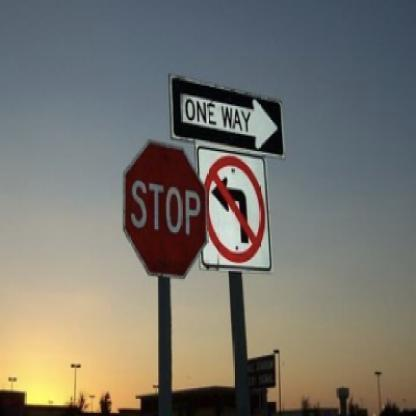Stop: (124, 139, 206, 275)
